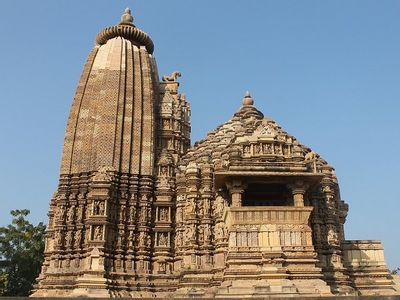Temple: (52, 9, 353, 288)
